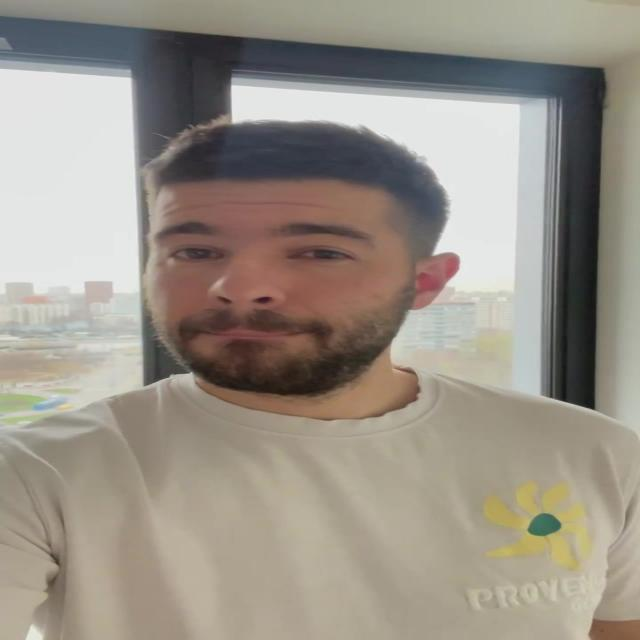earlobe: (408, 252, 460, 310)
